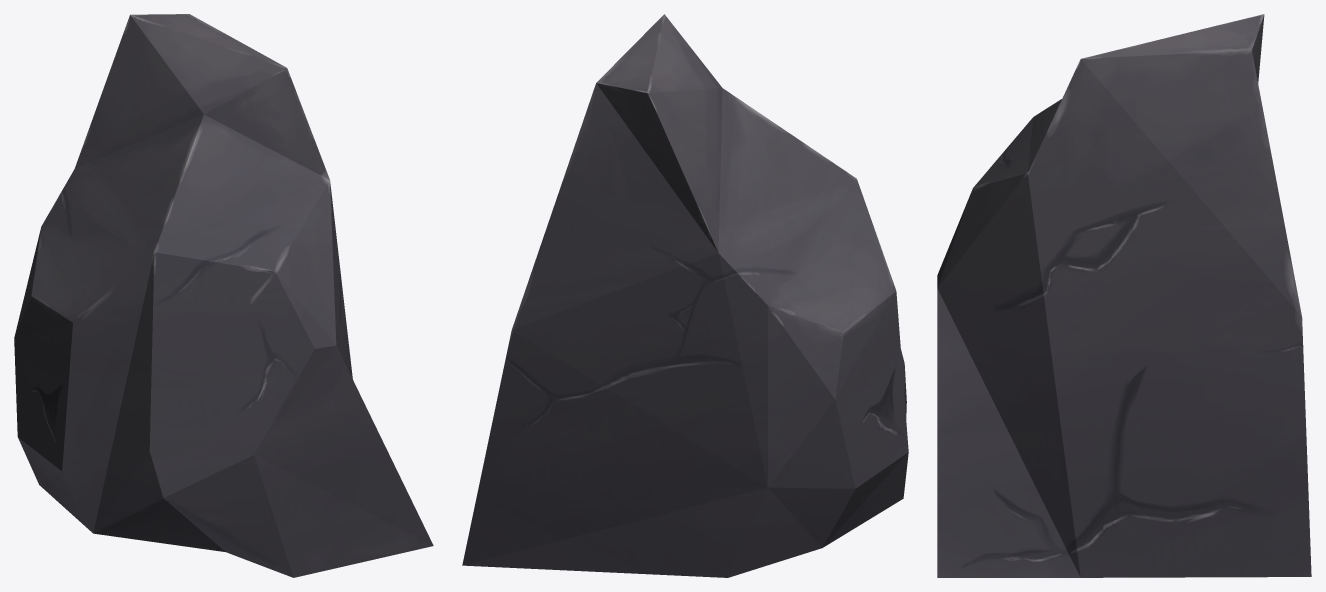
The model's file is rock_3.fbx.
3 renders of one model, left to right at view 1: azimuth 30°, elevation 25°; view 2: azimuth 150°, elevation 25°; view 3: azimuth 270°, elevation 25°, orthographic. The views are drawn at different scales.
Visible parts, largest first — view 1: Cube.020; view 2: Cube.020; view 3: Cube.020.
Boxes of the visible parts, box(x1,y1,x2,y2) form: Cube.020: box(14, 14, 433, 577); Cube.020: box(462, 14, 908, 577); Cube.020: box(937, 14, 1311, 577).
Size of the model in its own units: 234 by 334 by 233.
